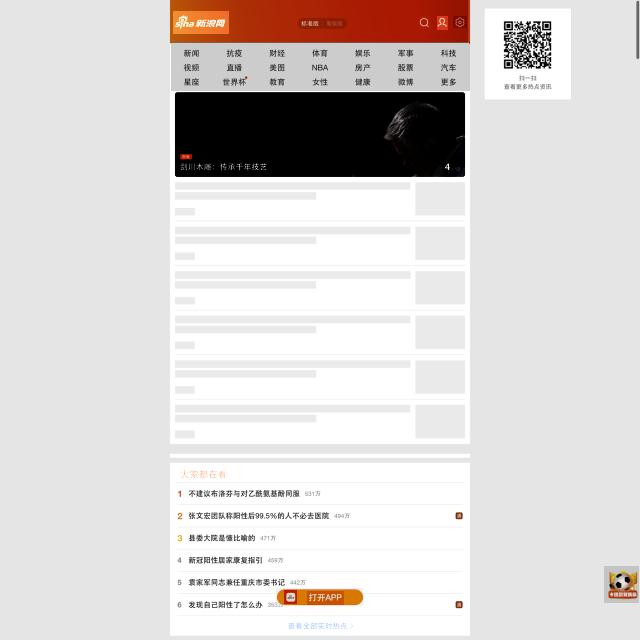CheckBox: (276, 588, 363, 606), (285, 619, 357, 633)
bag: (170, 0, 468, 43)
breadcrumbs: (178, 468, 229, 480)
card: (174, 91, 465, 177)
carousel: (284, 590, 297, 604), (453, 16, 467, 28), (419, 16, 431, 29), (437, 16, 448, 30)
content: (604, 566, 639, 603)
data feed: (307, 591, 344, 605)
date picker: (173, 11, 229, 34)
decoration: (171, 42, 470, 91)
